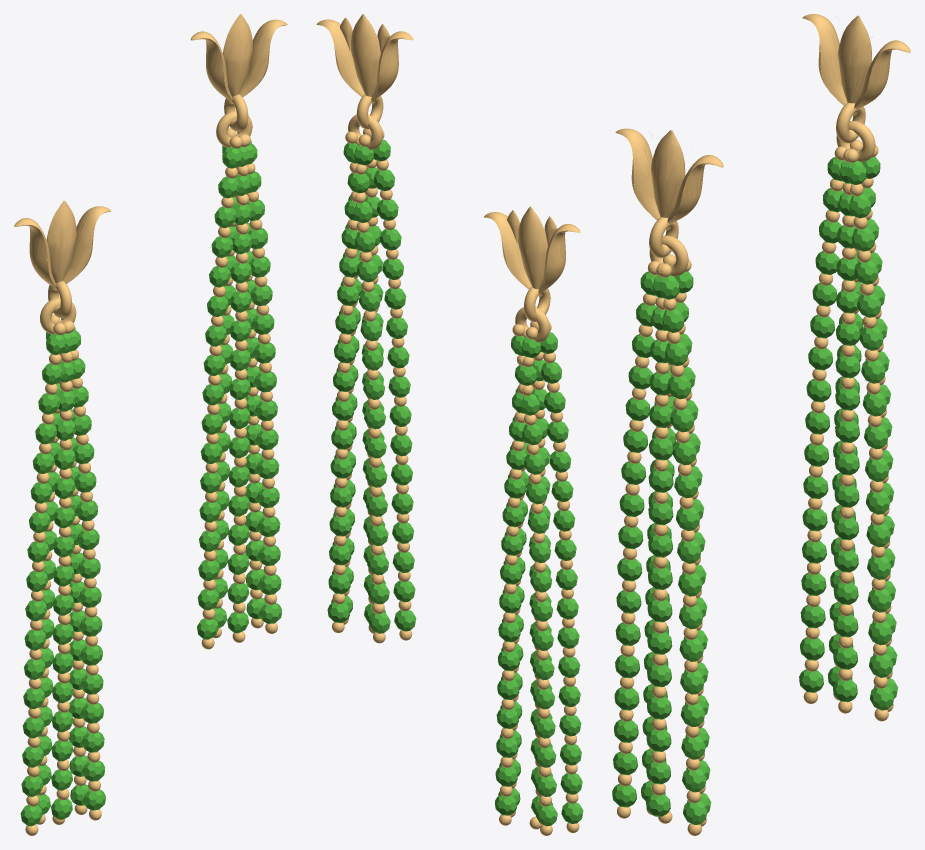
Rendered from haoma-earrings_compressed.glb.
3 renders of one model, left to right at view 1: azimuth 30°, elevation 25°; view 2: azimuth 150°, elevation 25°; view 3: azimuth 330°, elevation 25°, orthographic. The views are drawn at different scales.
Visible parts, largest first — view 1: Mesh_0.005; view 2: Mesh_0.005; view 3: Mesh_0.005.
Part boxes in pixels (x1,y1,x2,y2): Mesh_0.005: (14,14,287,835); Mesh_0.005: (316,14,583,835); Mesh_0.005: (612,14,910,835).
Bounding box in the file's own units: 38.21 × 105 × 6.05.
